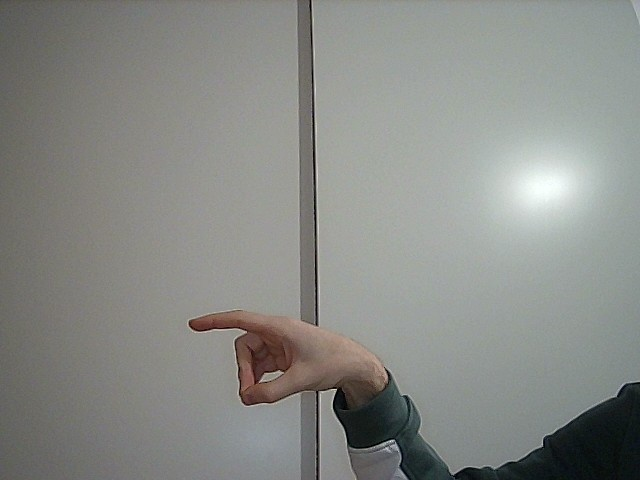p: (172, 288, 370, 415)
